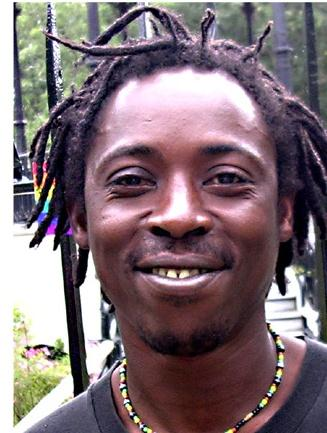No Mask: (26, 15, 327, 374)
